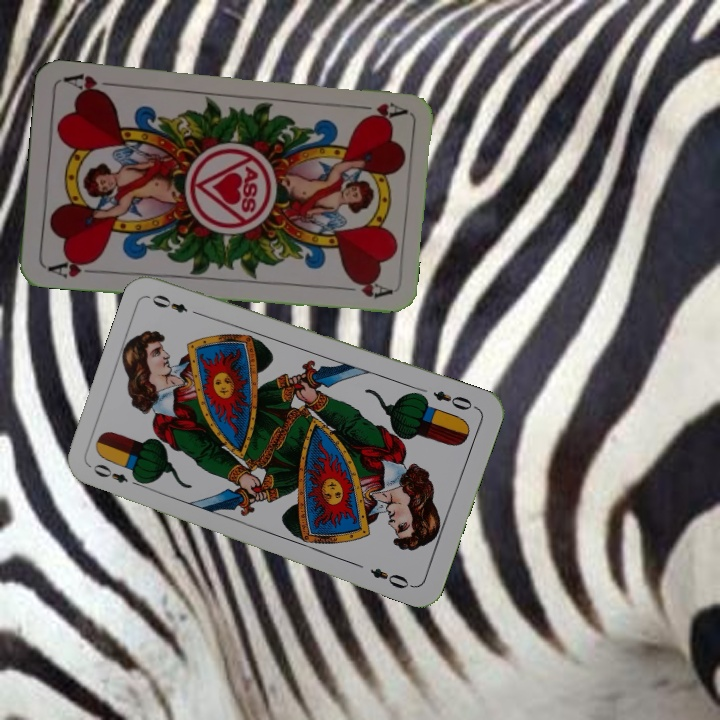EO: (88, 460, 145, 490), (429, 386, 480, 413)
HA: (43, 254, 102, 281), (349, 98, 408, 125)
